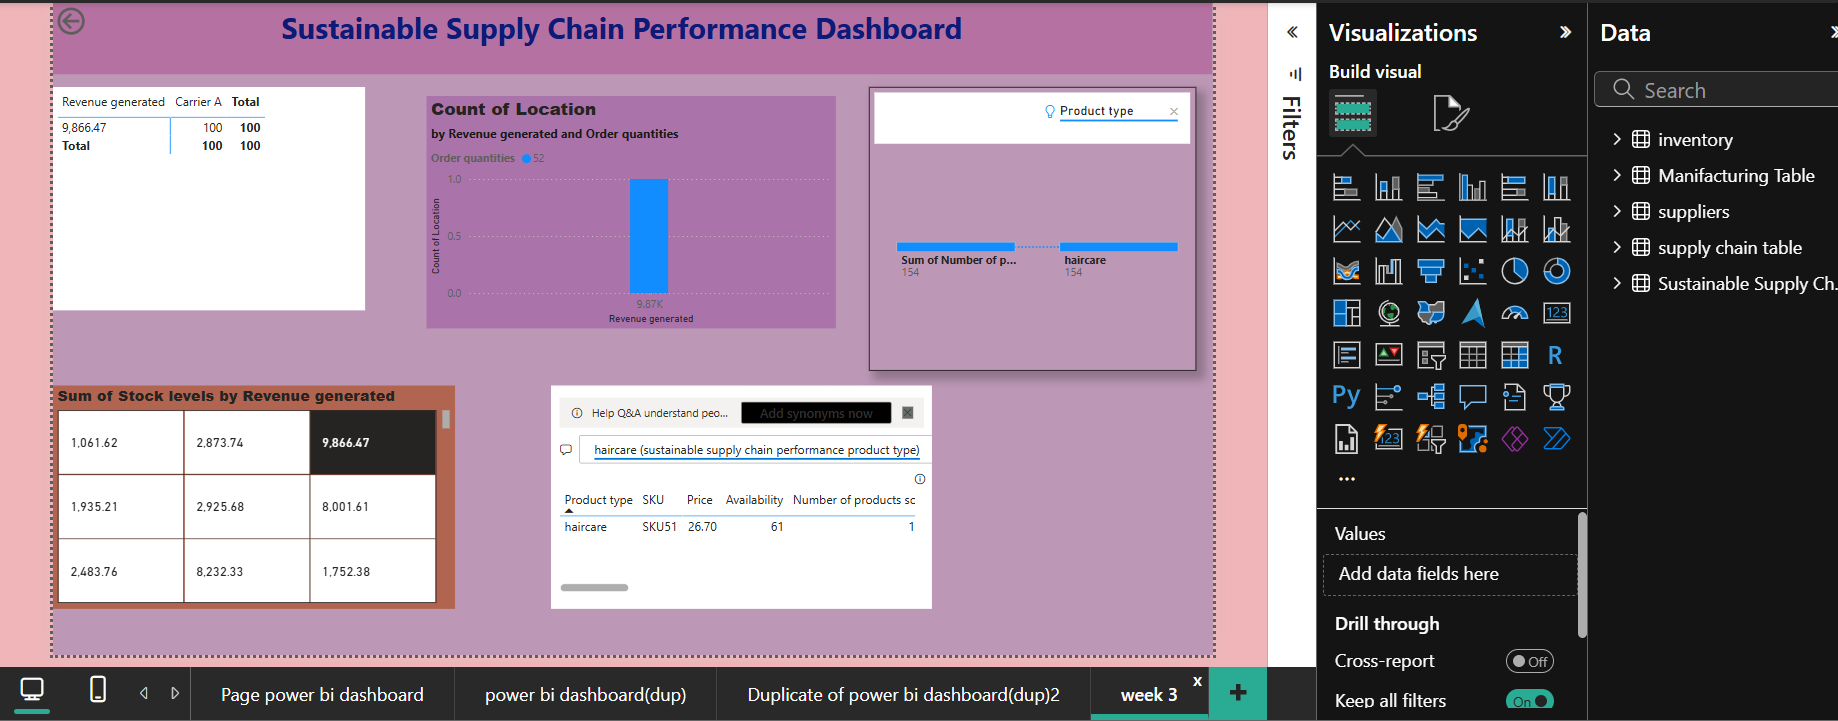

This screenshot's page, from the dashboard's own definition file:
{"tool":"powerbi","page":{"name":"week 3","canvas":[1280,720],"ordinal":3},"visuals":[{"type":"textbox","box":[0,0,1280,78.3],"z":0},{"type":"pivotTable","fields":{"Rows":["supply chain table.Revenue generated"],"Columns":["supply chain table.Shipping carriers"],"Values":["Sum(supply chain table.Stock levels)"]},"box":[0,92.8,344.5,246.8],"z":1000},{"type":"decompositionTreeVisual","fields":{"ExplainBy":["supply chain table.Product type"],"Analyze":["Sum(supply chain table.Number of products sold)"]},"box":[901.1,92.8,361.1,313.1],"z":2000},{"type":"ribbonChart","fields":{"Category":["supply chain table.Revenue generated"],"Y":["CountNonNull(supply chain table.Location)"],"Series":["supply chain table.Order quantities"]},"box":[412.5,102.7,452.2,256.8],"z":3000},{"type":"actionButton","box":[0,0,100,40],"z":4000},{"type":"advancedSlicerVisual","fields":{"Values":["Sustainable Supply Chain Performance.Revenue generated"]},"box":[0,422.4,443.9,246.8],"z":5000},{"type":"qnaVisual","box":[550,422.4,420.7,246.8],"z":6000}]}

Visuals, with their boxes on the page's 1280x720 design canvas (x1, y1, x2, y2). These are canvas units, not pixel positions in the 1838x721 screenshot, which may show the page scaled, cropped or inside an application window:
textbox: locate(0, 0, 1280, 78)
pivotTable - supply chain table.Revenue generated x supply chain table.Shipping carriers: locate(0, 93, 344, 340)
decompositionTreeVisual - supply chain table.Product type x Sum(supply chain table.Number of products sold): locate(901, 93, 1262, 406)
ribbonChart - supply chain table.Revenue generated x CountNonNull(supply chain table.Location): locate(412, 103, 865, 360)
actionButton: locate(0, 0, 100, 40)
advancedSlicerVisual - Sustainable Supply Chain Performance.Revenue generated: locate(0, 422, 444, 669)
qnaVisual: locate(550, 422, 971, 669)
